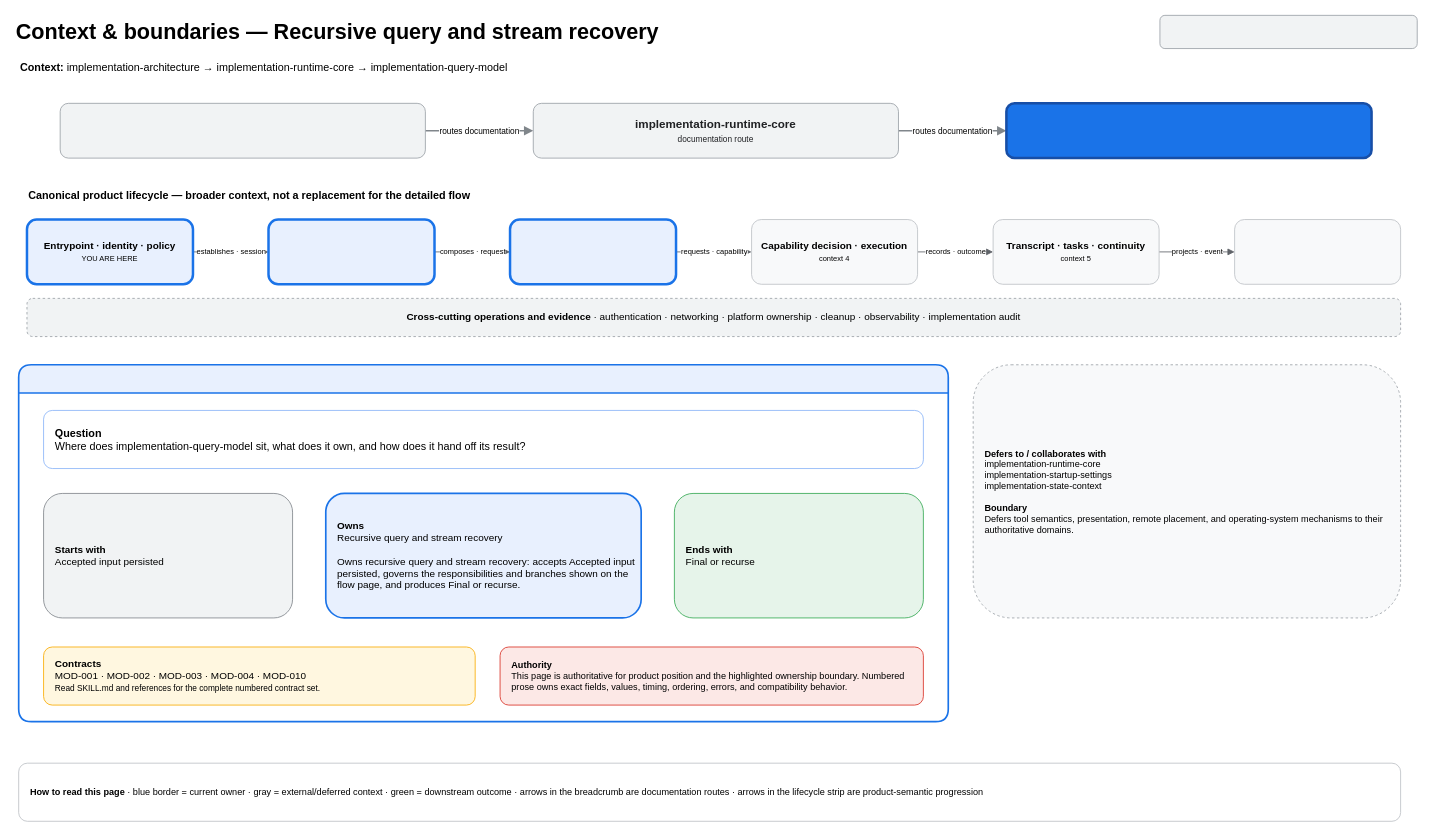
The diagram is 1432 pixels wide and 836 high, and some of its shapes have lost their labels. Each missing label, with the box of its shape:
architecture overview · template 2.0-context-flow: (1159, 15, 1417, 49)
CURRENT OWNERSHIP BOUNDARY: (17, 364, 949, 722)
implementation-architecture documentation route: (59, 103, 425, 158)
implementation-query-model YOU ARE HERE: (1005, 102, 1372, 159)
Query engine · model stream YOU ARE HERE: (508, 218, 677, 285)
Session state · registries · context YOU ARE HERE: (267, 218, 435, 285)
Surface · remote projection context 6: (1234, 219, 1401, 284)
